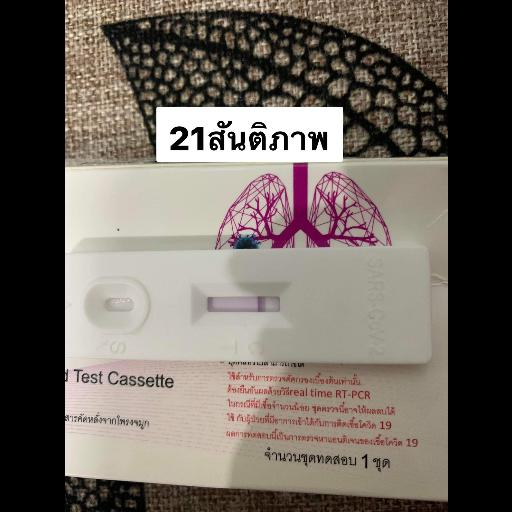Neg: (64, 251, 430, 363)
